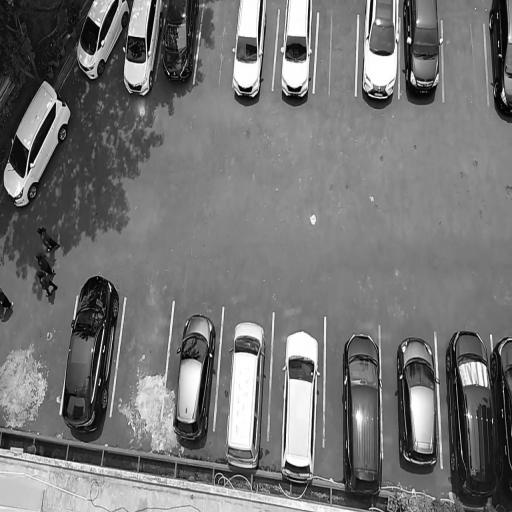Car: (60, 263, 121, 439), (0, 73, 72, 210), (448, 322, 497, 510), (339, 328, 386, 499), (172, 299, 218, 450), (278, 314, 319, 483), (225, 315, 268, 470), (396, 332, 438, 472), (402, 0, 443, 109), (230, 0, 269, 112), (362, 0, 399, 116), (73, 1, 126, 81), (278, 0, 316, 106), (122, 0, 159, 100), (162, 0, 195, 97), (487, 0, 512, 119), (496, 328, 512, 490)
Space Available: (128, 287, 161, 441), (446, 11, 483, 112), (322, 6, 355, 99), (203, 0, 231, 89)
